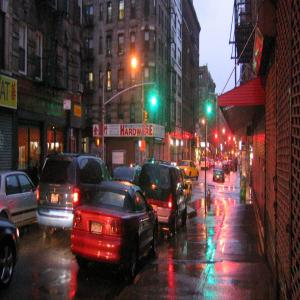Vehicle-registration-plate: (92, 223, 103, 236), (150, 206, 159, 217), (52, 194, 59, 205)
